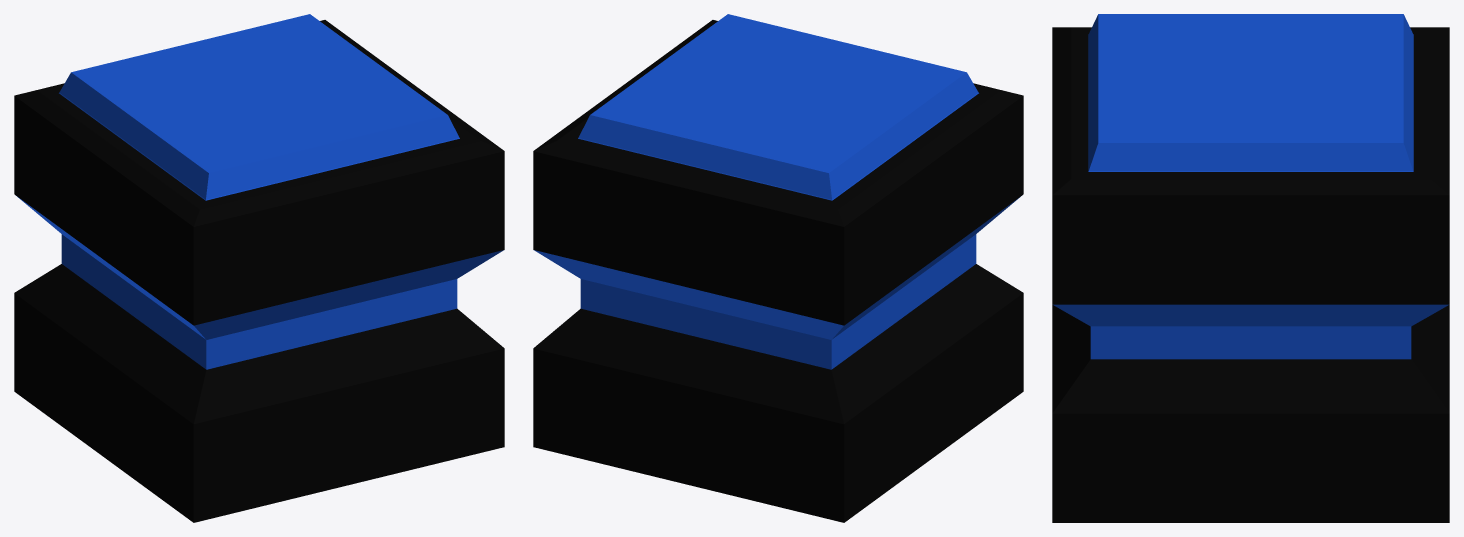
Rendered from BlueButton.fbx.
3 renders of one model, left to right at view 1: azimuth 30°, elevation 25°; view 2: azimuth 150°, elevation 25°; view 3: azimuth 270°, elevation 25°, orthographic. The views are drawn at different scales.
Parts seen in each view (by area): view 1: BaseBlueButton, BlueButton; view 2: BaseBlueButton, BlueButton; view 3: BaseBlueButton, BlueButton.
Part boxes in pixels (left/top/right/bottom): BaseBlueButton: left=14, top=20, right=504, bottom=522; BlueButton: left=59, top=14, right=459, bottom=200; BaseBlueButton: left=533, top=20, right=1023, bottom=522; BlueButton: left=578, top=14, right=978, bottom=200; BaseBlueButton: left=1052, top=27, right=1449, bottom=522; BlueButton: left=1088, top=14, right=1413, bottom=171.
Bounding box in the file's own units: 107 × 107 × 107.
